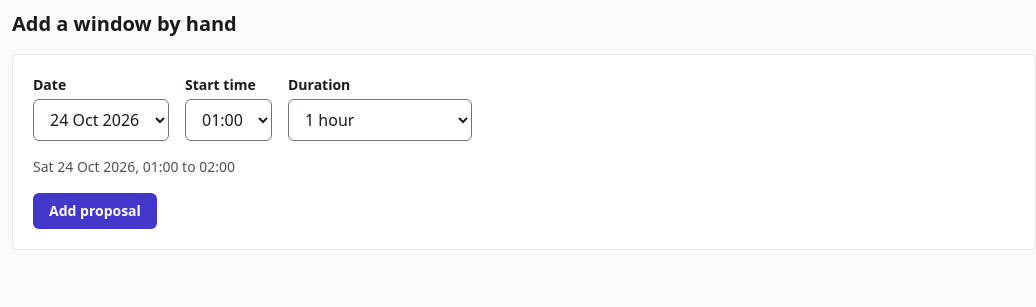
Test: ManualProposalForm › says the group is confirmed rather than retrying
Click the button "Add proposal": (95,211) [33,193,157,229]
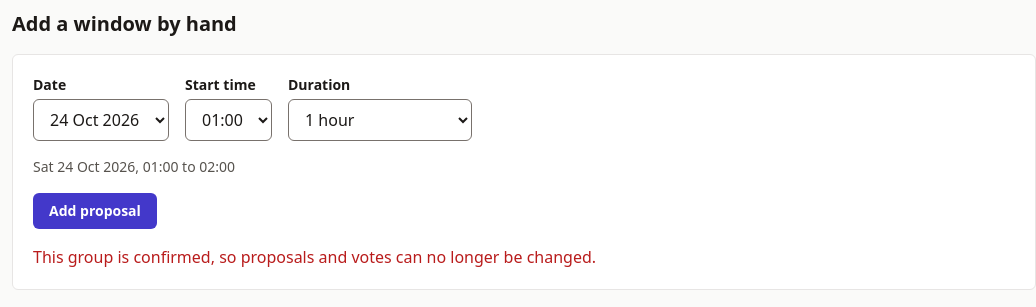
Expected: the text "This group is confirmed, so proposals and votes can no longer be changed." is shown, [33,246,596,268]
